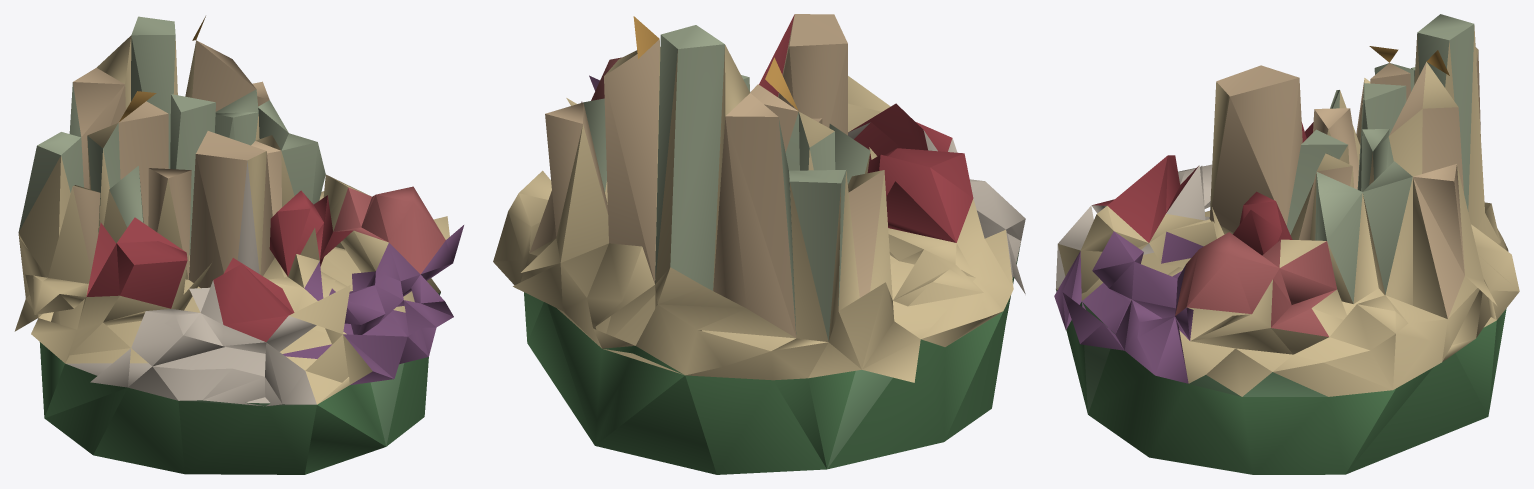
File: rose_candles_01.medium.glb
3 renders of one model, left to right at view 1: azimuth 30°, elevation 25°; view 2: azimuth 150°, elevation 25°; view 3: azimuth 270°, elevation 25°, orthographic. The views are drawn at different scales.
Size of the model in its own units: 2.15 by 1.8 by 2.09.
